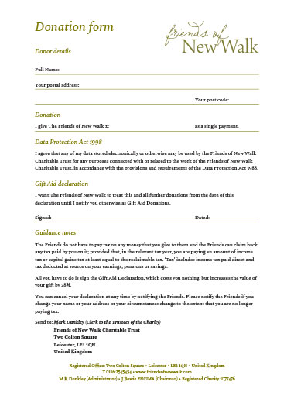textline: (59, 64, 262, 77), (80, 78, 263, 92), (52, 210, 194, 225), (32, 94, 194, 107), (111, 119, 193, 134), (211, 209, 260, 224), (230, 94, 259, 107)
